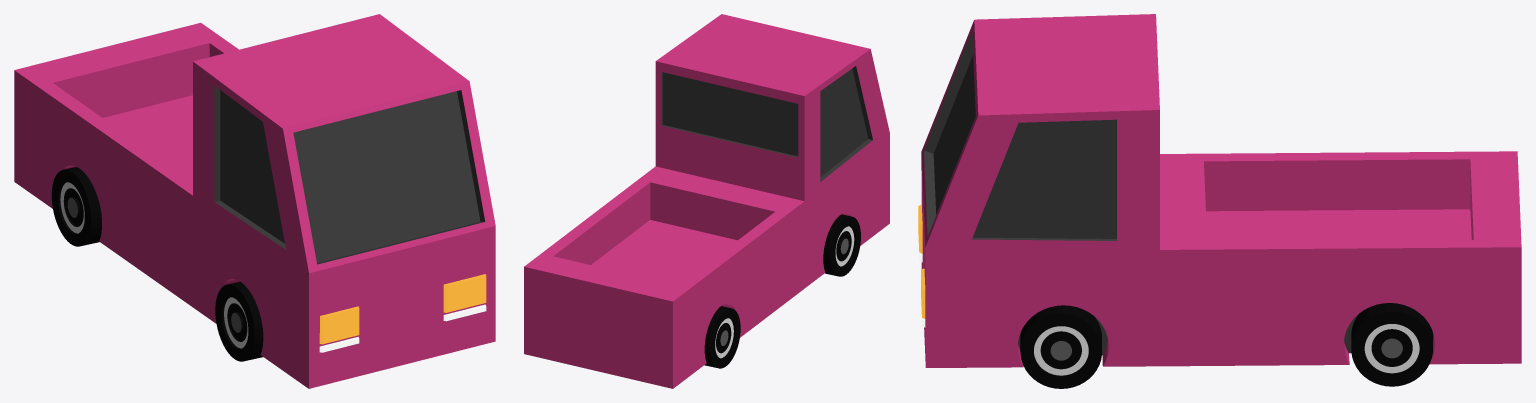
File: Truck02.glb
The picture shows the model from 3 angles, left to right: view 1: azimuth 30°, elevation 25°; view 2: azimuth 150°, elevation 25°; view 3: azimuth 270°, elevation 25°; orthographic projection. The views are drawn at different scales.
Parts seen in each view (by area): view 1: Truck02; view 2: Truck02; view 3: Truck02.
Part boxes in pixels (x1,y1,x2,y2): Truck02: [14, 14, 495, 388]; Truck02: [524, 14, 889, 388]; Truck02: [918, 14, 1521, 388].
Bounding box in the file's own units: 1.75 × 2.05 × 4.11.
